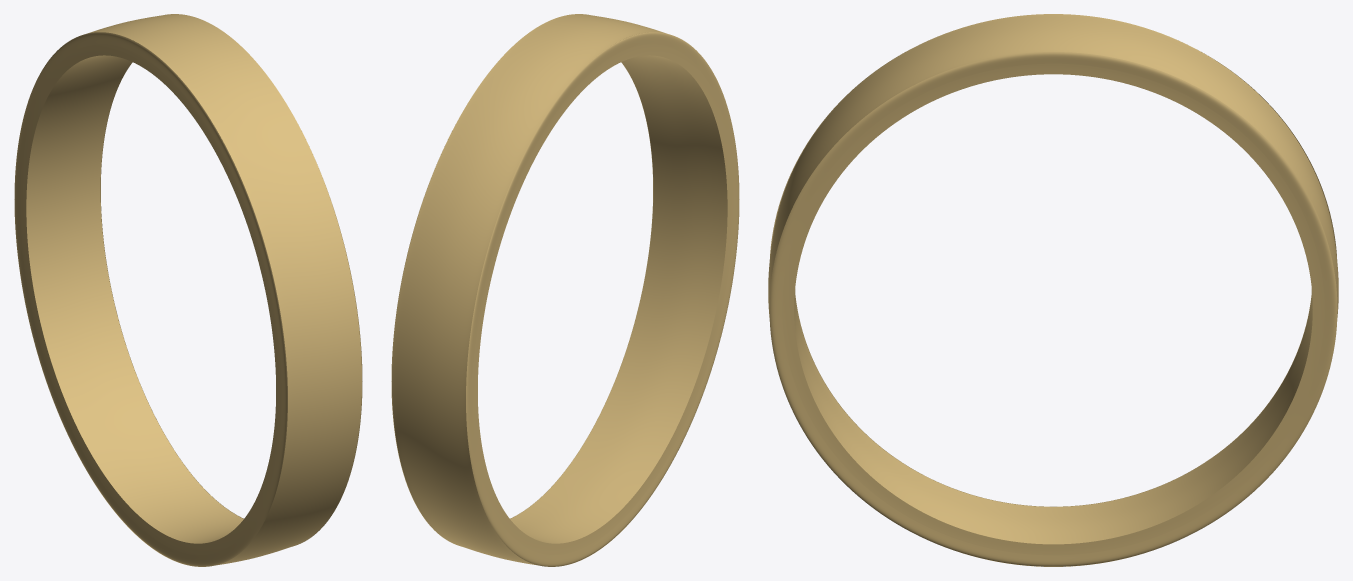
3 renders of one model, left to right at view 1: azimuth 30°, elevation 25°; view 2: azimuth 150°, elevation 25°; view 3: azimuth 270°, elevation 25°, orthographic. The views are drawn at different scales.
Visible parts, largest first — view 1: P14-Outer, P14-Inner, P14-Sides; view 2: P14-Outer, P14-Inner, P14-Sides; view 3: P14-Sides, P14-Outer, P14-Inner.
Boxes of the visible parts, bbox=[...] form: P14-Outer: bbox=[87, 14, 361, 566]; P14-Inner: bbox=[26, 46, 243, 543]; P14-Sides: bbox=[14, 32, 362, 566]; P14-Outer: bbox=[392, 14, 666, 566]; P14-Inner: bbox=[510, 46, 727, 543]; P14-Sides: bbox=[391, 32, 739, 566]; P14-Sides: bbox=[769, 52, 1337, 566]; P14-Outer: bbox=[768, 14, 1338, 566]; P14-Inner: bbox=[794, 51, 1312, 544].
Bounding box in the file's own units: 0.3675 × 2.31 × 2.3.
